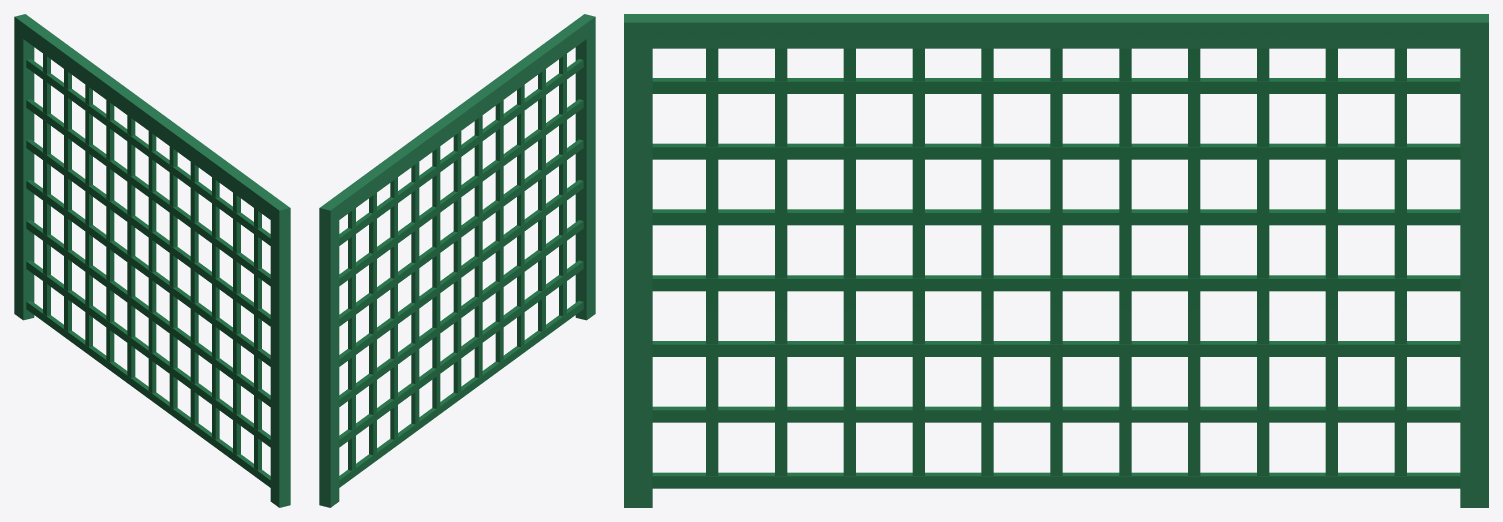
Rendered from Fence_1_B_3.fbx.
3 views of the same model, side by side, from view 1: azimuth 30°, elevation 25°; view 2: azimuth 150°, elevation 25°; view 3: azimuth 270°, elevation 25° (orthographic). The views are drawn at different scales.
Parts seen in each view (by area): view 1: Fence_1_B_3; view 2: Fence_1_B_3; view 3: Fence_1_B_3.
Boxes of the visible parts, x1=… form: Fence_1_B_3: x1=14, y1=14, x2=290, y2=507; Fence_1_B_3: x1=319, y1=14, x2=595, y2=507; Fence_1_B_3: x1=624, y1=14, x2=1488, y2=507.
Bounding box in the file's own units: 9.6 × 248 × 400.
